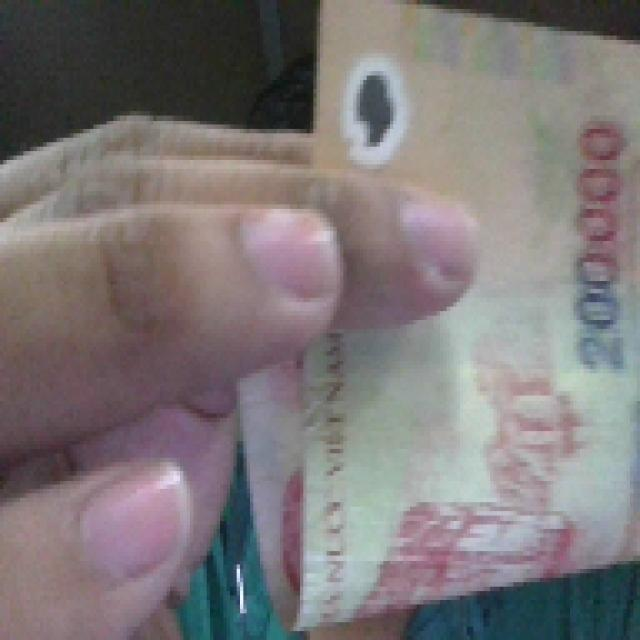200 000 VND: (233, 0, 637, 631)
